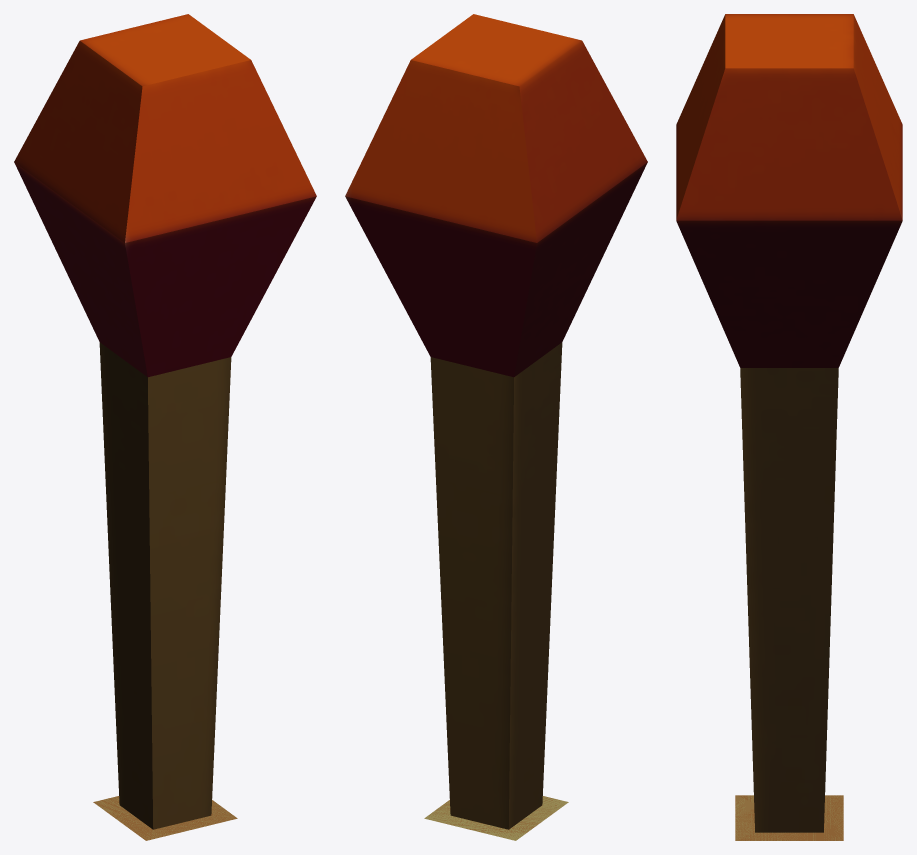
File: torch.FBX
The picture shows the model from 3 angles, left to right: view 1: azimuth 30°, elevation 25°; view 2: azimuth 150°, elevation 25°; view 3: azimuth 270°, elevation 25°; orthographic projection. The views are drawn at different scales.
Visible parts, largest first — view 1: torch, earth_shadow_torch, sand_shadow_torch; view 2: torch, sand_shadow_torch, earth_shadow_torch; view 3: torch, earth_shadow_torch, sand_shadow_torch.
Boxes of the visible parts, left/top/right/bottom form: torch: left=14, top=14, right=316, bottom=829; earth_shadow_torch: left=93, top=796, right=237, bottom=840; sand_shadow_torch: left=95, top=797, right=235, bottom=839; torch: left=345, top=14, right=647, bottom=829; sand_shadow_torch: left=424, top=796, right=568, bottom=840; earth_shadow_torch: left=429, top=796, right=560, bottom=839; torch: left=676, top=14, right=902, bottom=832; earth_shadow_torch: left=735, top=795, right=843, bottom=840; sand_shadow_torch: left=735, top=795, right=843, bottom=840.
Size of the model in its own units: 14.8 by 56.48 by 14.8.
